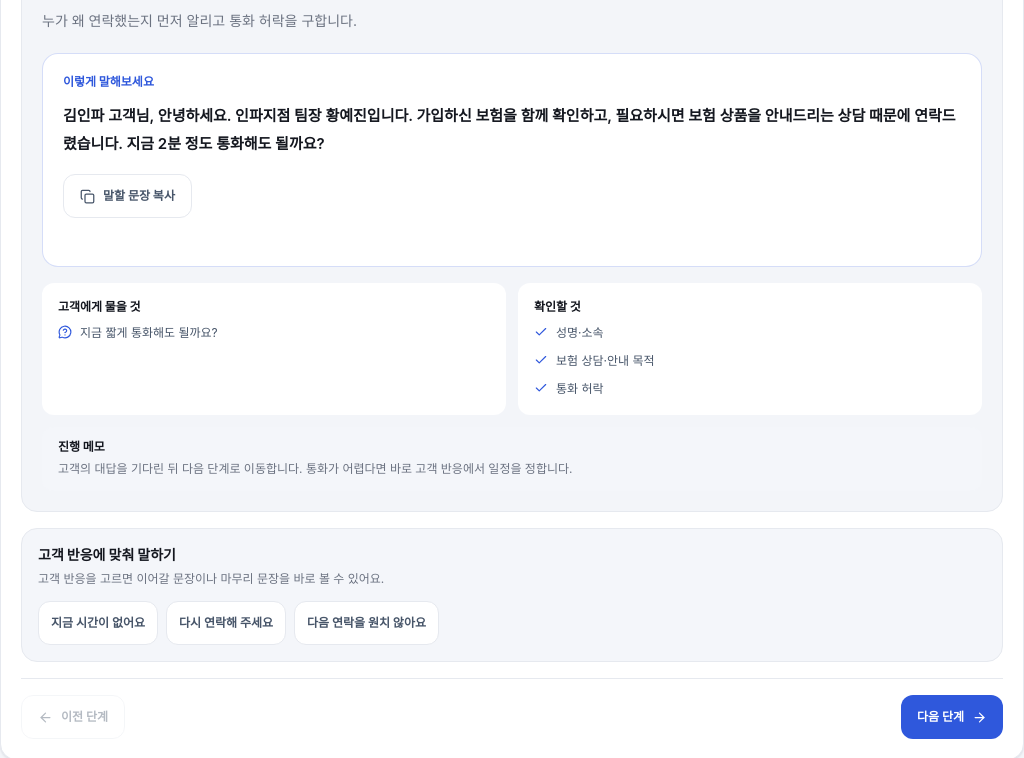
Test case: GuidedTalkPlaybooks › treats a contact opt-out as an immediate close, not another proposal
The image size is (1024, 758).
(page scrolled)
Click the button "다음 연락을 원치 않아요" at (366, 623), box x1=294 y1=601 x2=439 y2=645
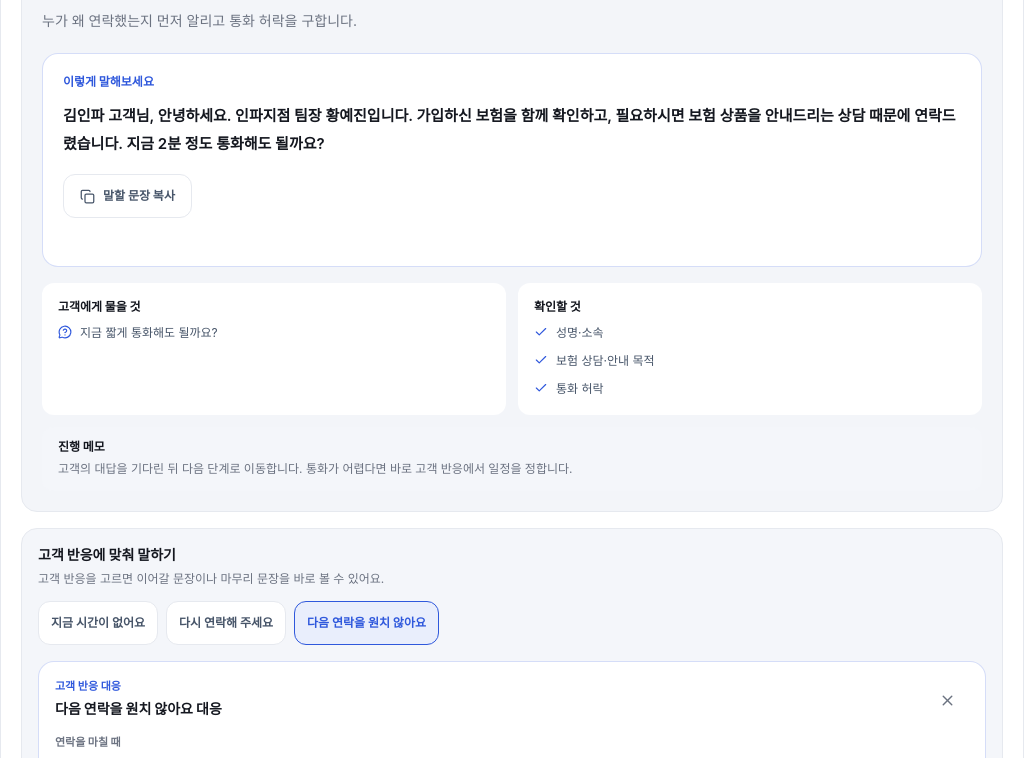
Expected: the text "연락을 마칠 때" is shown, x1=55 y1=735 x2=120 y2=749
